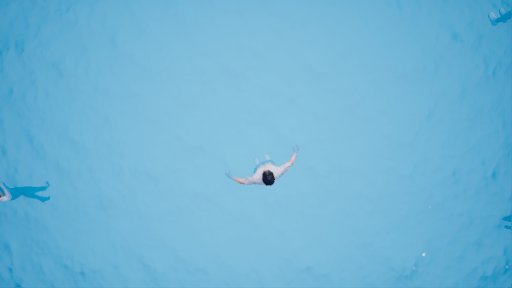person: (220, 146, 300, 189)
